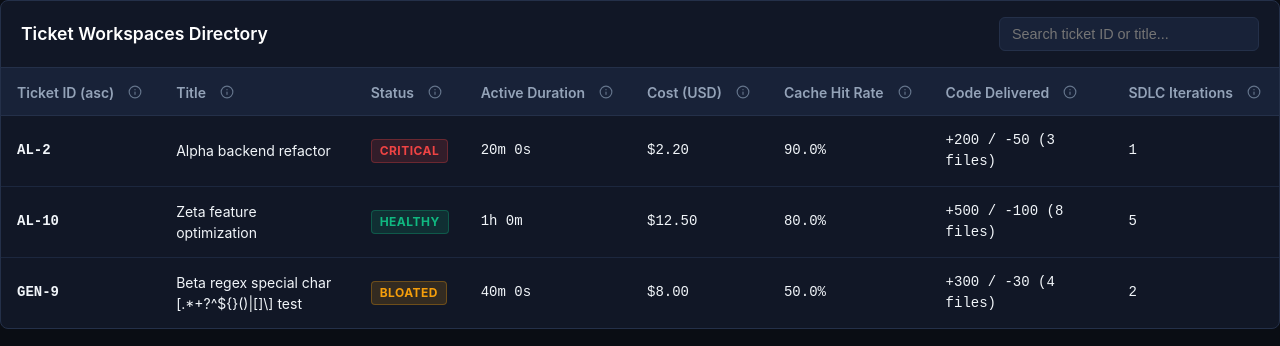
Scenario: TicketTable Component › Adversarial Search Filtering › shows custom empty state when search matches no tickets
The image size is (1280, 346).
Type "NONEXISTENT_XYZ" into the field named "filter tickets" at (1129, 34), box [999,17,1259,51]
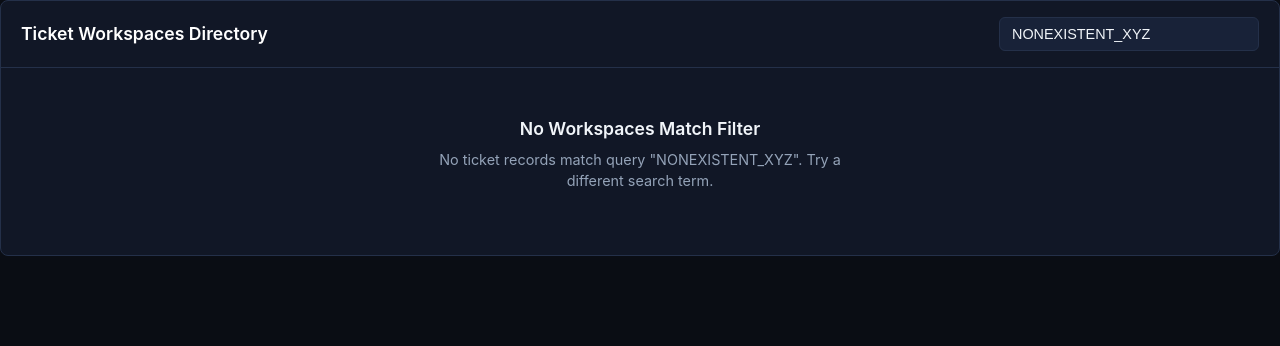
Expected: the heading "No Workspaces Match Filter" is shown, [520,116,760,142]
Expected: the text "No ticket records match query \"NONEXISTENT_XYZ\"" is shown, [439,151,841,189]
